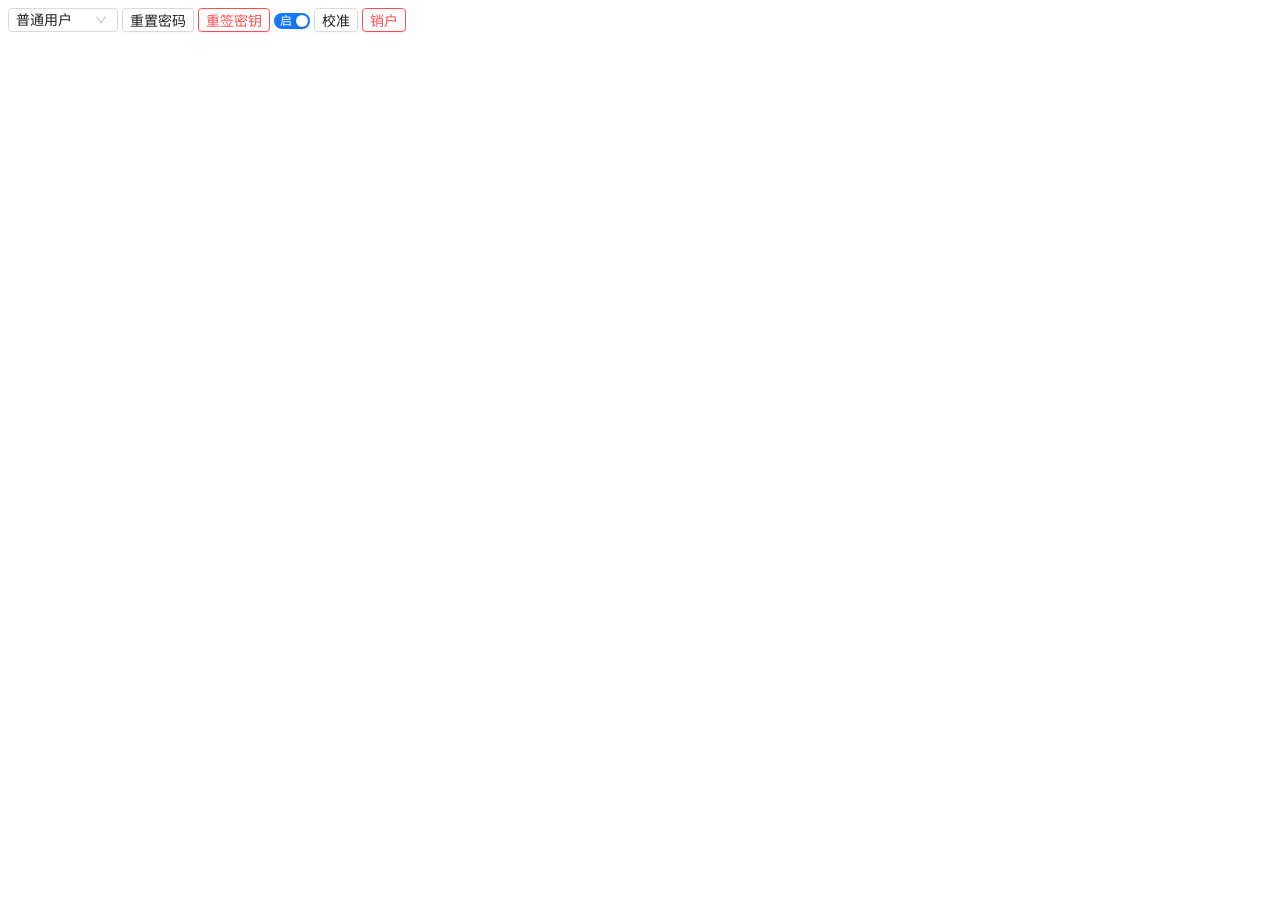
Test: UserActions › 初始管理员销户被 409 拒绝时提示且行保留
This screenshot has width=1280, height=900.
Expected: the element with test id "user-actions" is shown, [8, 8, 406, 32]
Click the button "销户" at [384, 20], box [362, 8, 406, 32]
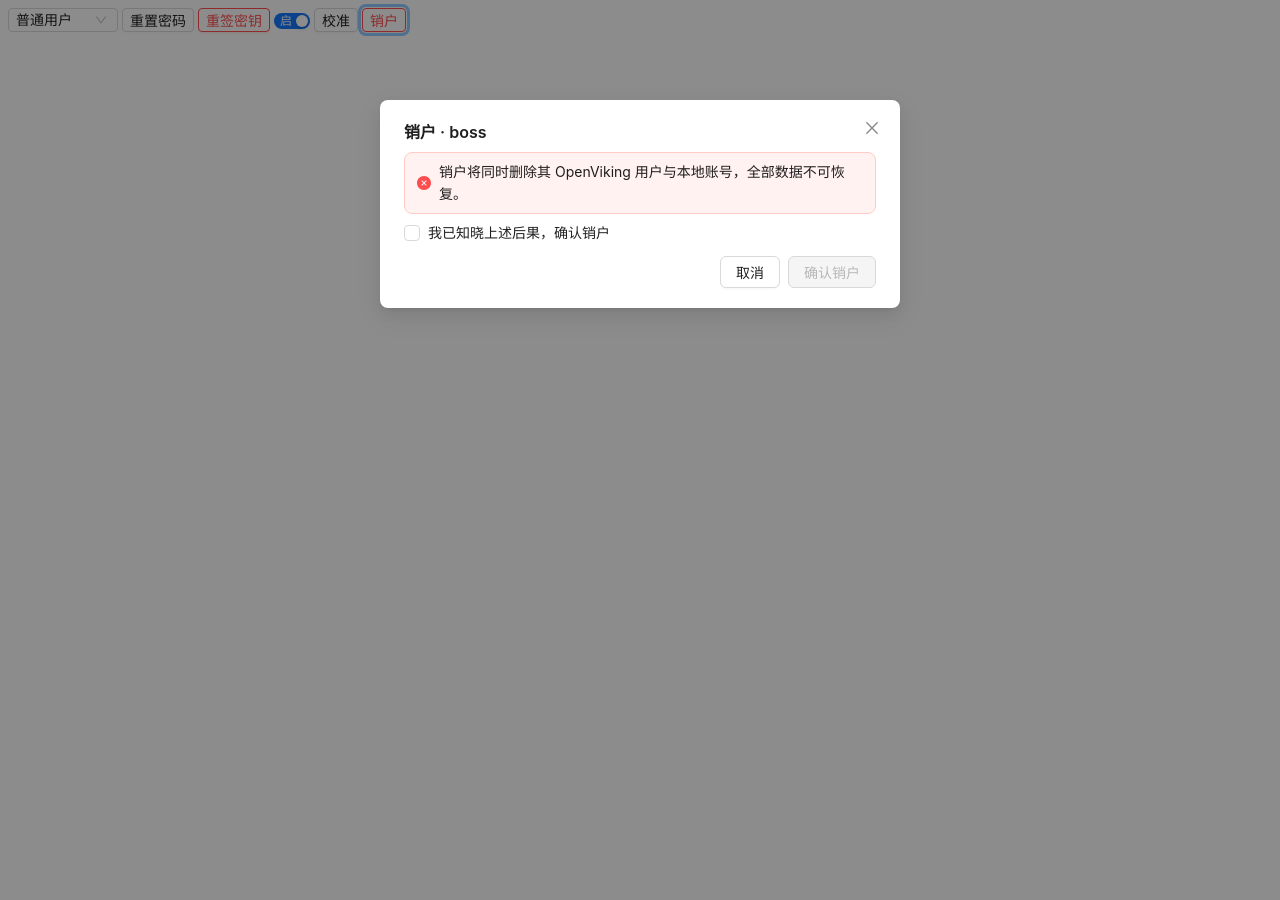
Click the checkbox at [511, 233], box [404, 222, 618, 244]
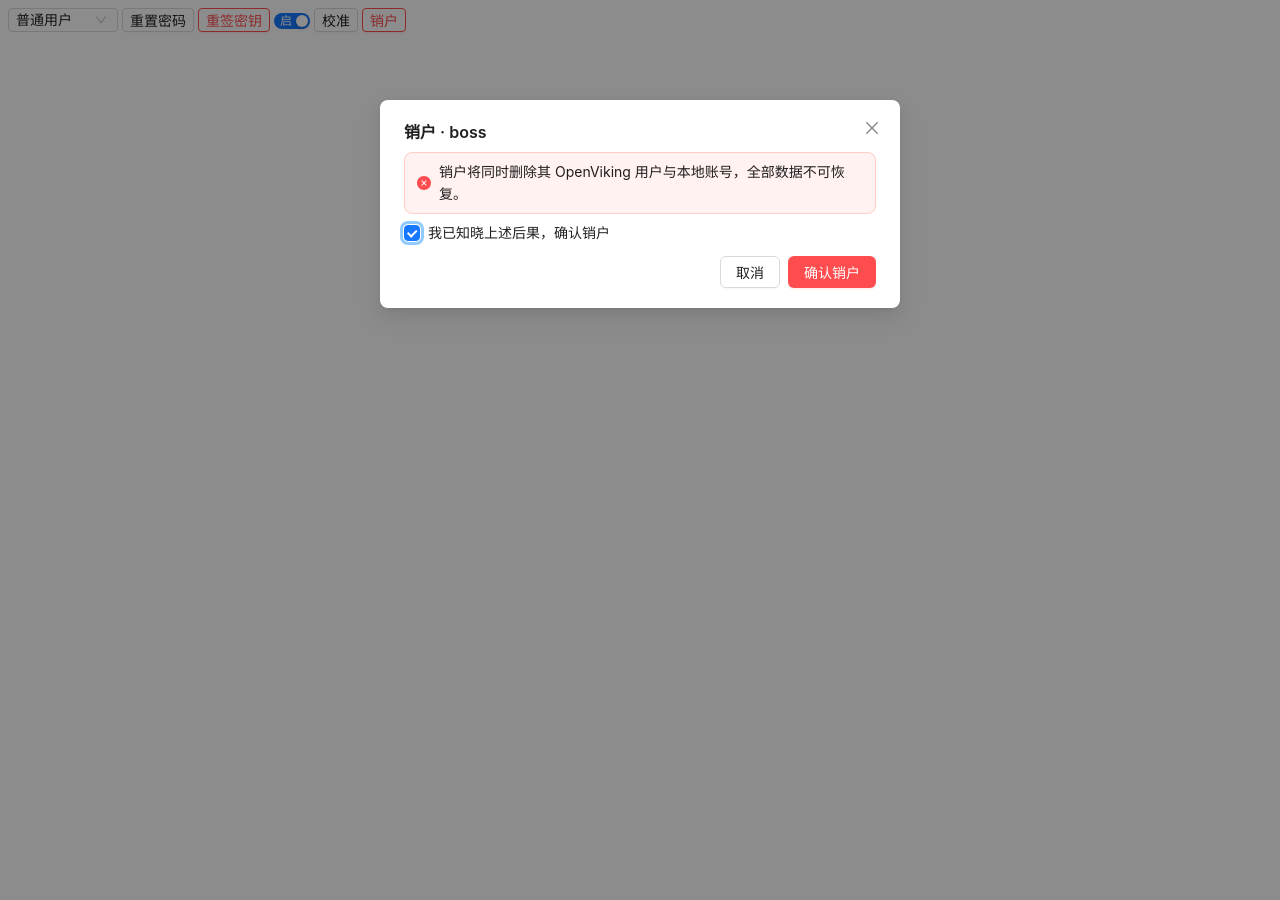
Click the button "确认销户" at [832, 272], box [788, 256, 876, 288]
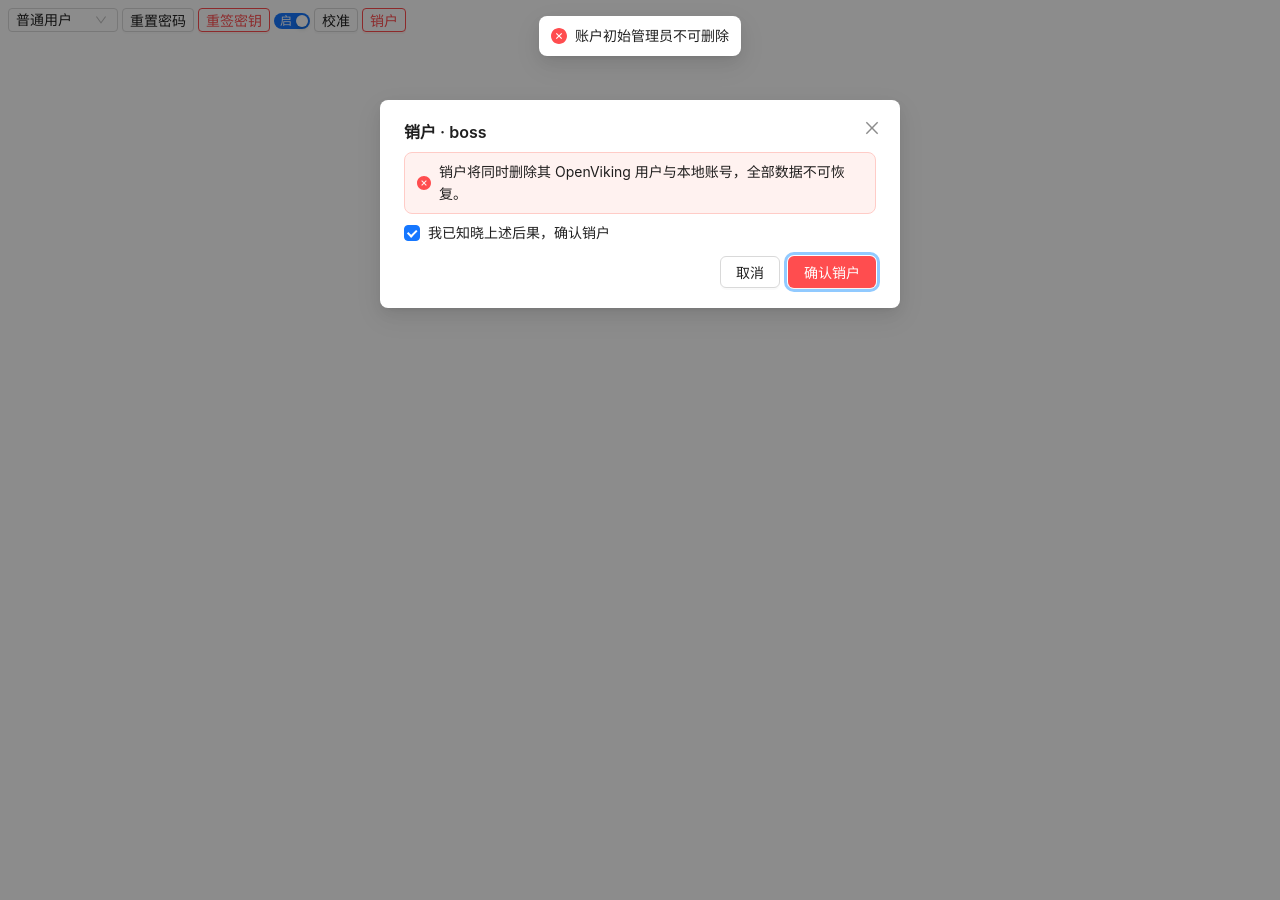
Now the text "账户初始管理员不可删除" is shown, box [575, 25, 729, 47]
